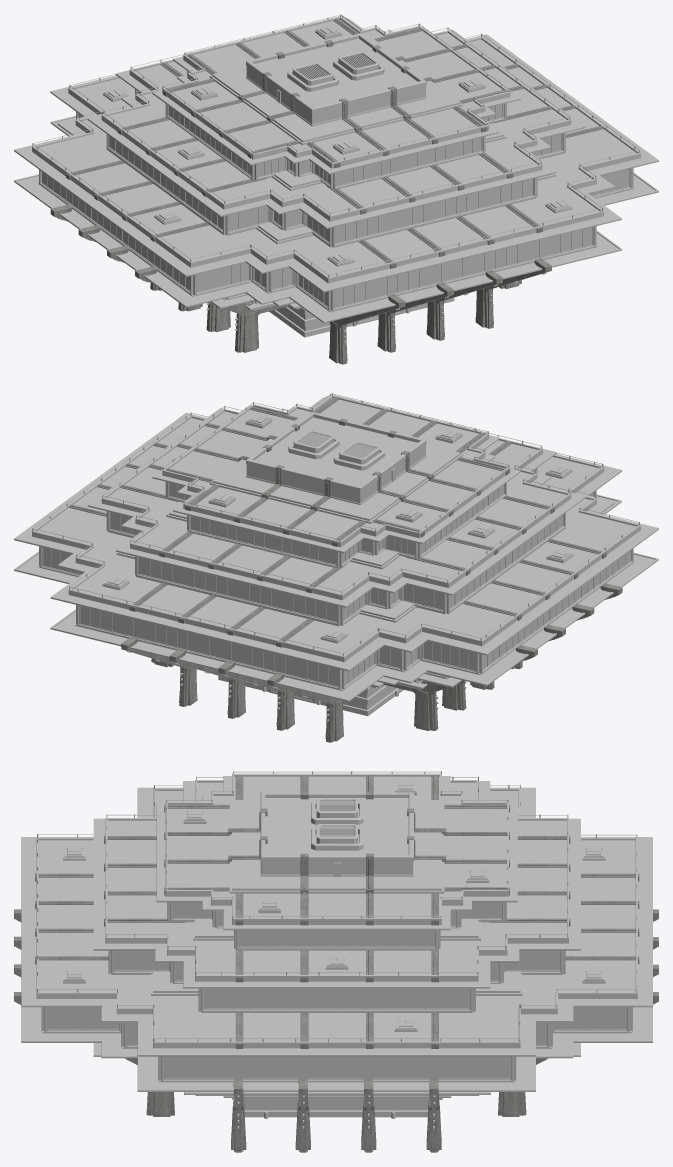
The model's file is Kitbash3D_Brutalist_Structure03.fbx.
3 views of the same model, one above another, from view 1: azimuth 30°, elevation 25°; view 2: azimuth 150°, elevation 25°; view 3: azimuth 270°, elevation 25° (orthographic). The views are drawn at different scales.
Visible parts, largest first — view 1: L_Bldg_D_MainBldg, L_Bldg_D_WindowsGlass, L_Bldg_D_Mull_Slats_Frames, L_Bldg_D_Roof_Details, L_Bldg_D_LG_Support_Beams, L_Bldg_D_Rails_All_Grp, L_Bldg_D_Props_Details; view 2: L_Bldg_D_MainBldg, L_Bldg_D_WindowsGlass, L_Bldg_D_Mull_Slats_Frames, L_Bldg_D_Roof_Details, L_Bldg_D_LG_Support_Beams, L_Bldg_D_Rails_All_Grp, L_Bldg_D_Props_Details; view 3: L_Bldg_D_MainBldg, L_Bldg_D_WindowsGlass, L_Bldg_D_Roof_Details, L_Bldg_D_Mull_Slats_Frames, L_Bldg_D_LG_Support_Beams, L_Bldg_D_Props_Details, L_Bldg_D_Rails_All_Grp.
Part boxes in pixels (left/top/right/bottom): L_Bldg_D_MainBldg: left=14, top=16, right=658, bottom=337; L_Bldg_D_WindowsGlass: left=42, top=91, right=629, bottom=321; L_Bldg_D_Mull_Slats_Frames: left=39, top=26, right=633, bottom=324; L_Bldg_D_Roof_Details: left=66, top=18, right=603, bottom=268; L_Bldg_D_LG_Support_Beams: left=50, top=204, right=551, bottom=364; L_Bldg_D_Rails_All_Grp: left=32, top=14, right=640, bottom=277; L_Bldg_D_Props_Details: left=57, top=26, right=572, bottom=343; L_Bldg_D_MainBldg: left=14, top=395, right=658, bottom=716; L_Bldg_D_WindowsGlass: left=43, top=470, right=630, bottom=699; L_Bldg_D_Mull_Slats_Frames: left=39, top=415, right=633, bottom=703; L_Bldg_D_Roof_Details: left=66, top=397, right=606, bottom=647; L_Bldg_D_LG_Support_Beams: left=121, top=583, right=622, bottom=742; L_Bldg_D_Rails_All_Grp: left=32, top=393, right=639, bottom=656; L_Bldg_D_Props_Details: left=102, top=414, right=615, bottom=721; L_Bldg_D_MainBldg: left=21, top=773, right=652, bottom=1117; L_Bldg_D_WindowsGlass: left=48, top=902, right=626, bottom=1078; L_Bldg_D_Roof_Details: left=35, top=775, right=639, bottom=1048; L_Bldg_D_Mull_Slats_Frames: left=41, top=782, right=632, bottom=1081; L_Bldg_D_LG_Support_Beams: left=14, top=909, right=658, bottom=1152; L_Bldg_D_Props_Details: left=62, top=782, right=605, bottom=1128; L_Bldg_D_Rails_All_Grp: left=37, top=771, right=637, bottom=1041.
Size of the model in its own units: 64.28 by 28.21 by 64.28.
